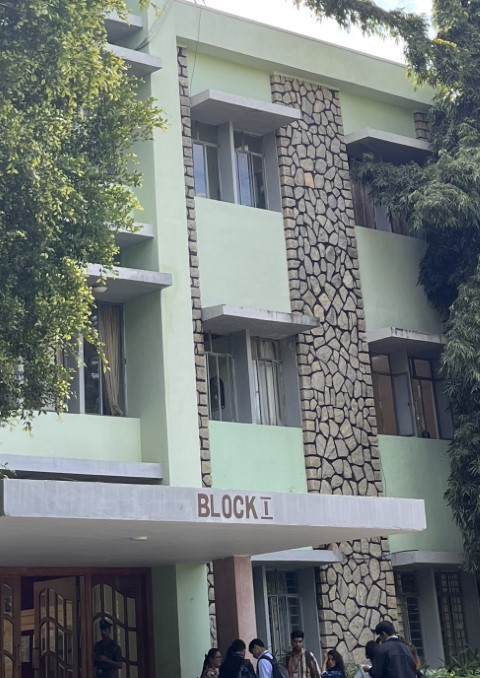Block 1: (74, 4, 480, 643)
